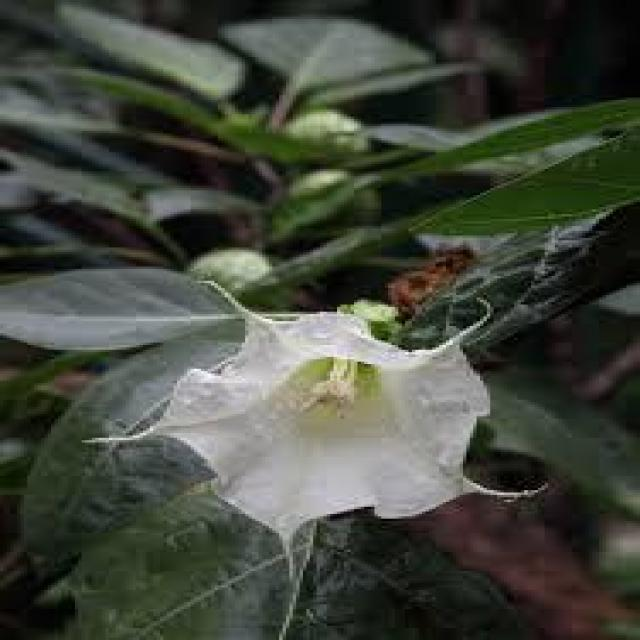organic waste: (136, 294, 545, 548)
